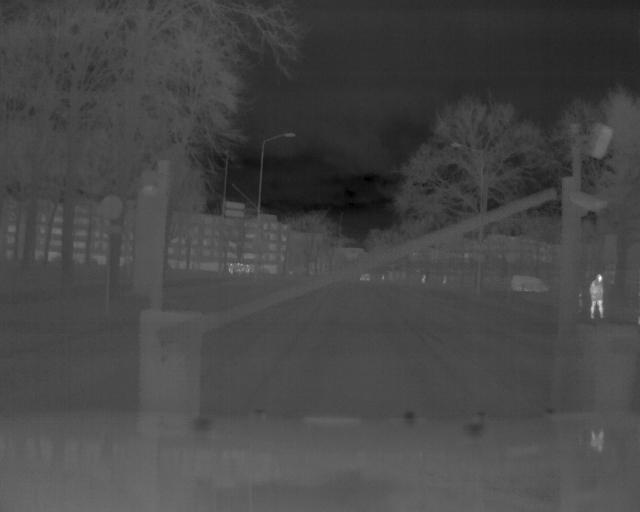person: (588, 272, 607, 324)
